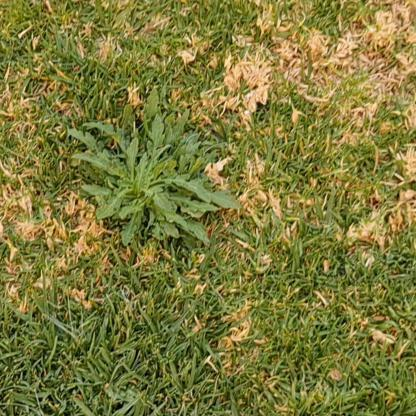Weeds: (67, 88, 243, 248)
